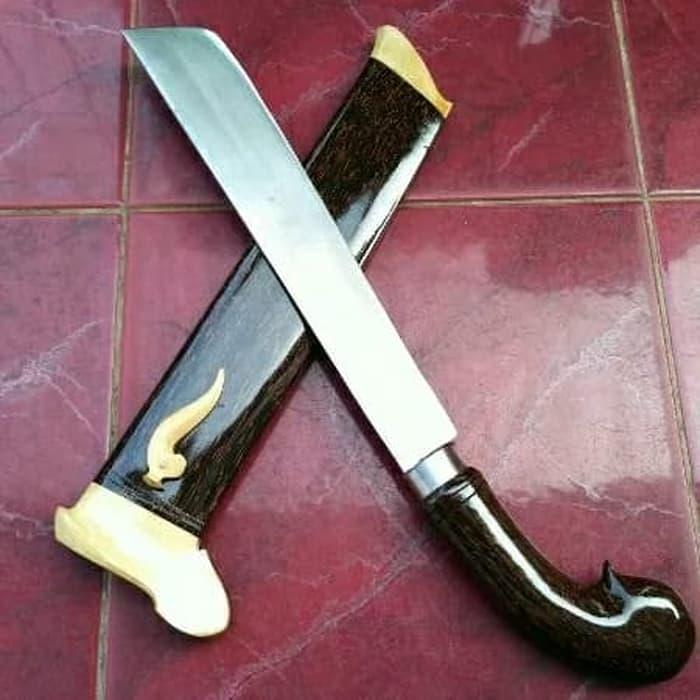espada: (122, 18, 699, 690)
